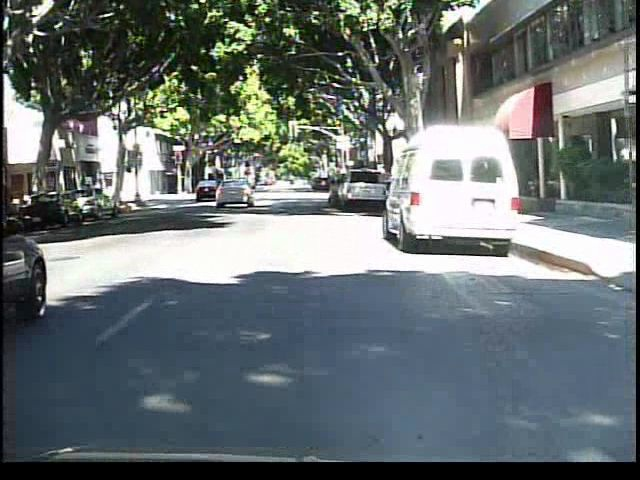person: (233, 173, 254, 207)
